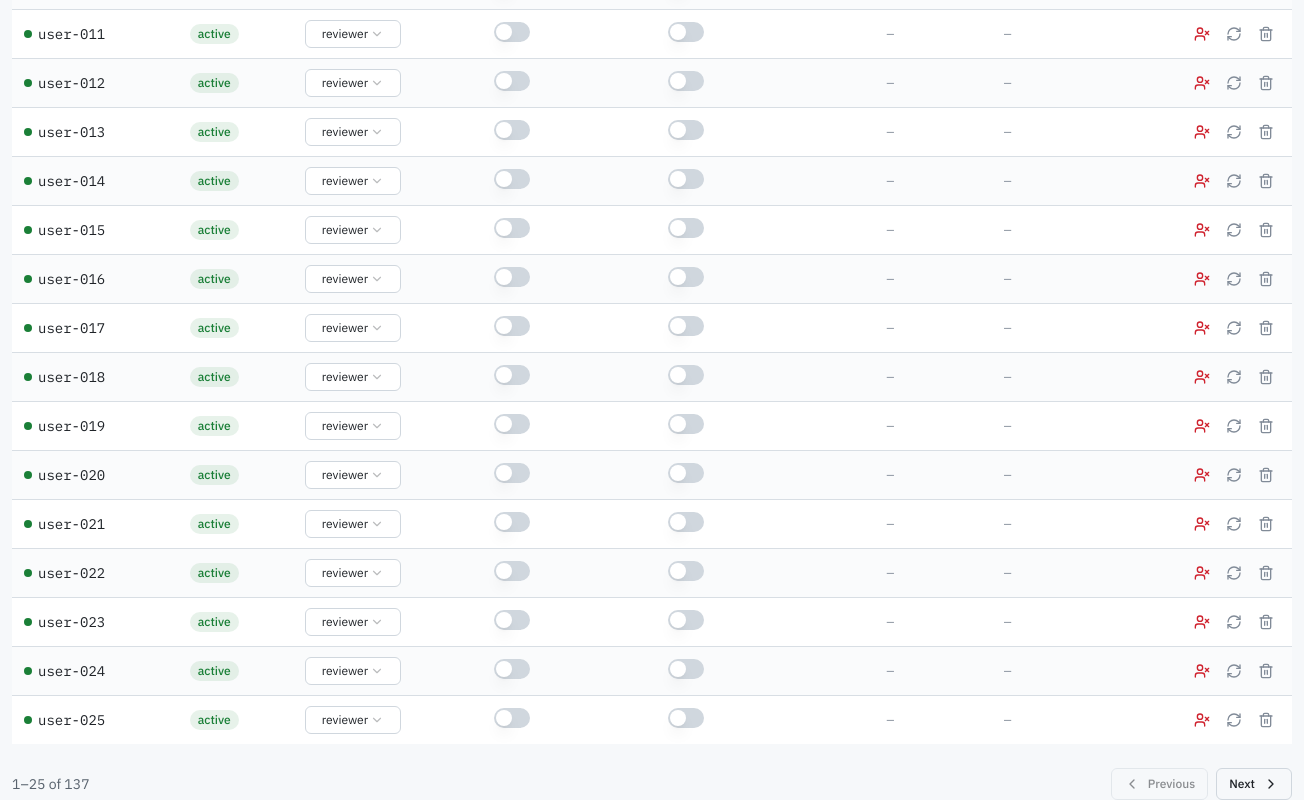
Test case: UsersPage pagination › moves to the next window and back, and stops at both ends
(page scrolled)
Expected: the button "Previous" is disabled, x1=1111 y1=768 x2=1208 y2=799
Click the button "Next" at (1254, 784), box x1=1216 y1=768 x2=1292 y2=799
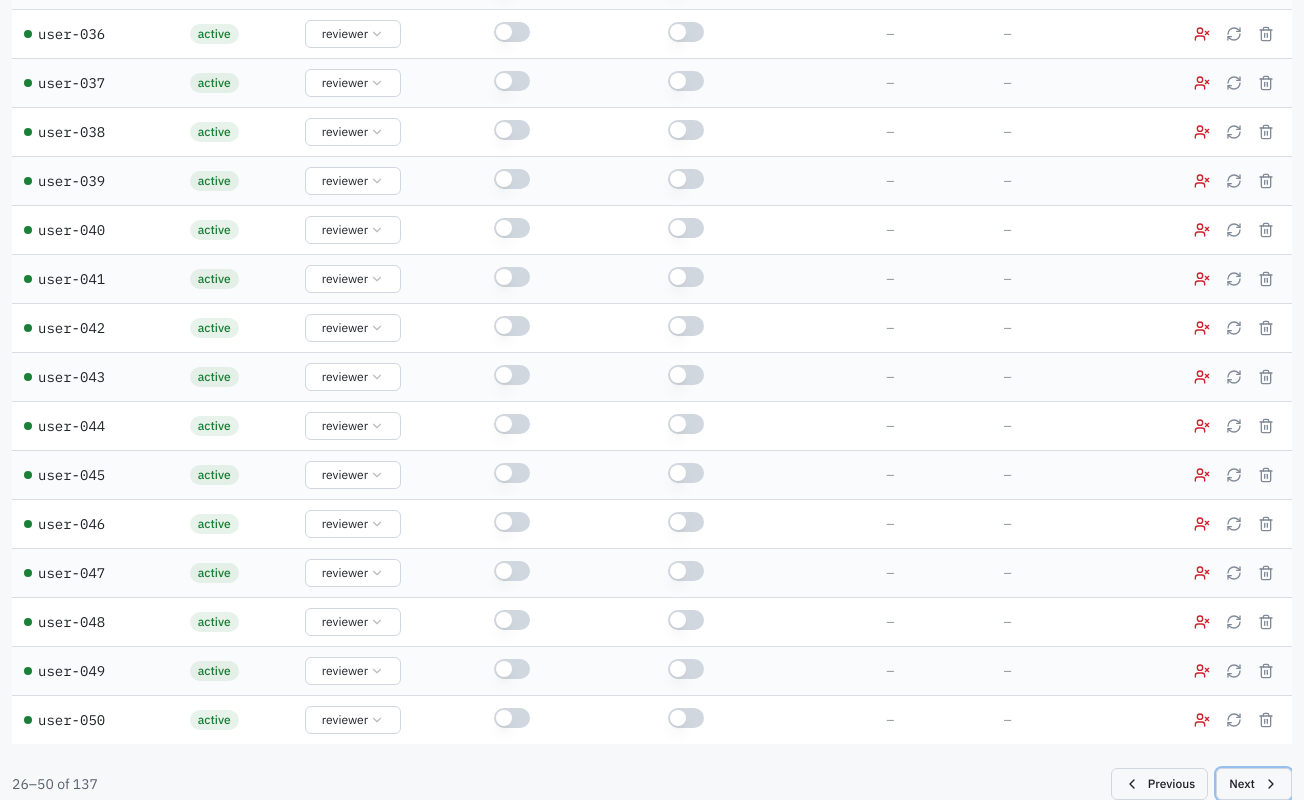
Expected: the message reads "26–50 of 137", x1=12 y1=774 x2=98 y2=794
Click the button "Previous" at (1159, 784), box x1=1111 y1=768 x2=1208 y2=799
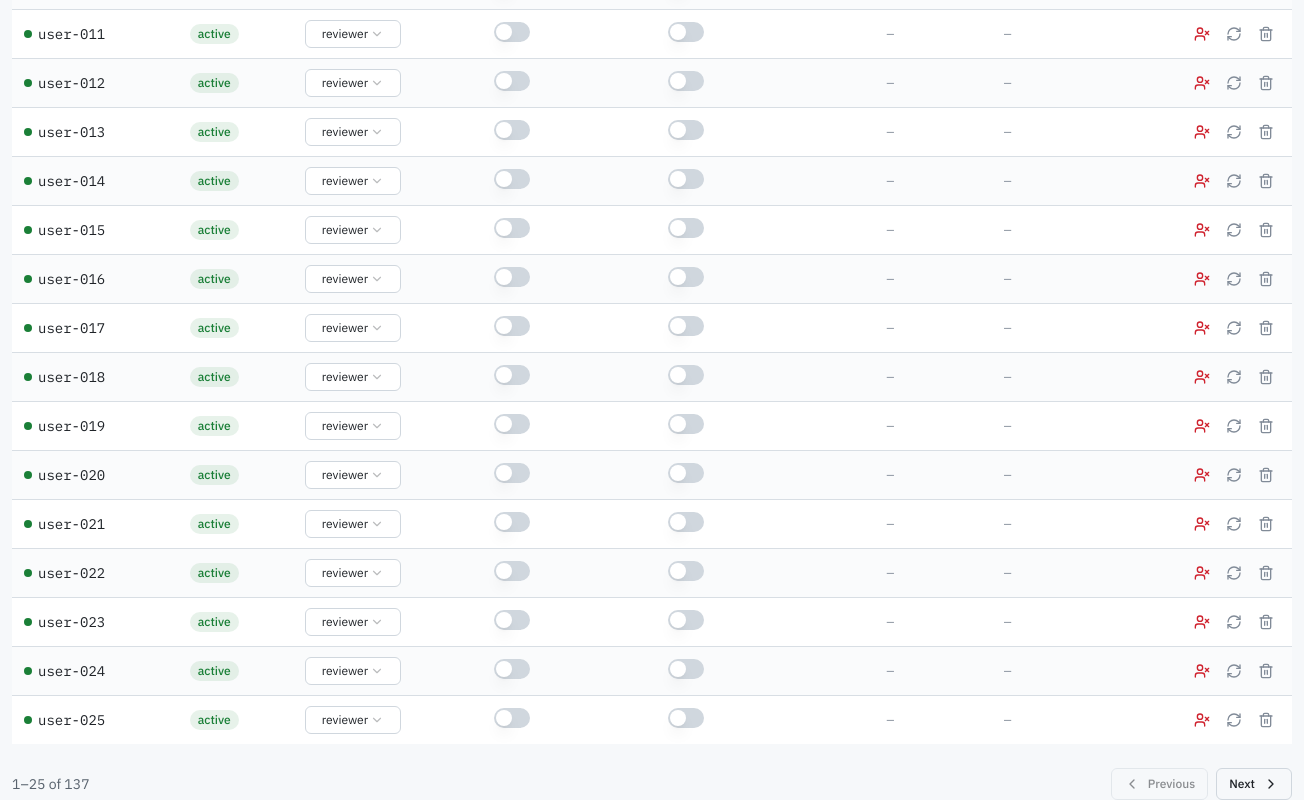
Expected: the message reads "1–25 of 137", x1=12 y1=774 x2=90 y2=794
